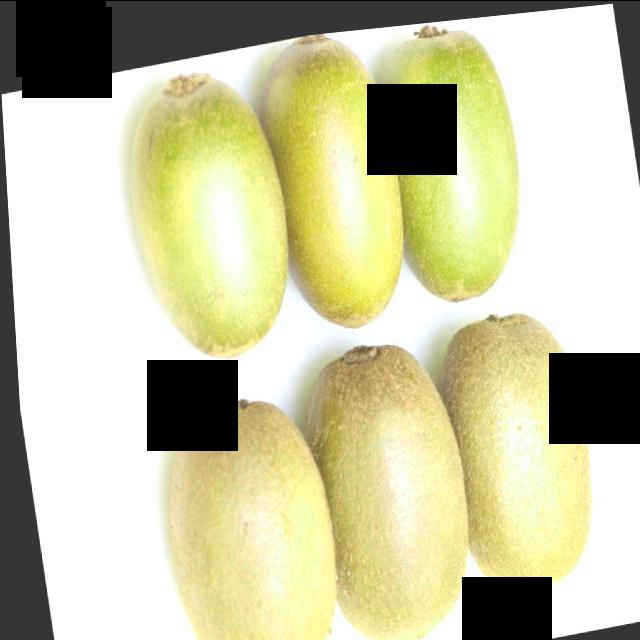kiwi: (285, 316, 485, 640), (115, 46, 311, 365), (428, 292, 607, 605), (249, 20, 421, 340), (146, 371, 348, 640), (367, 11, 539, 313)
